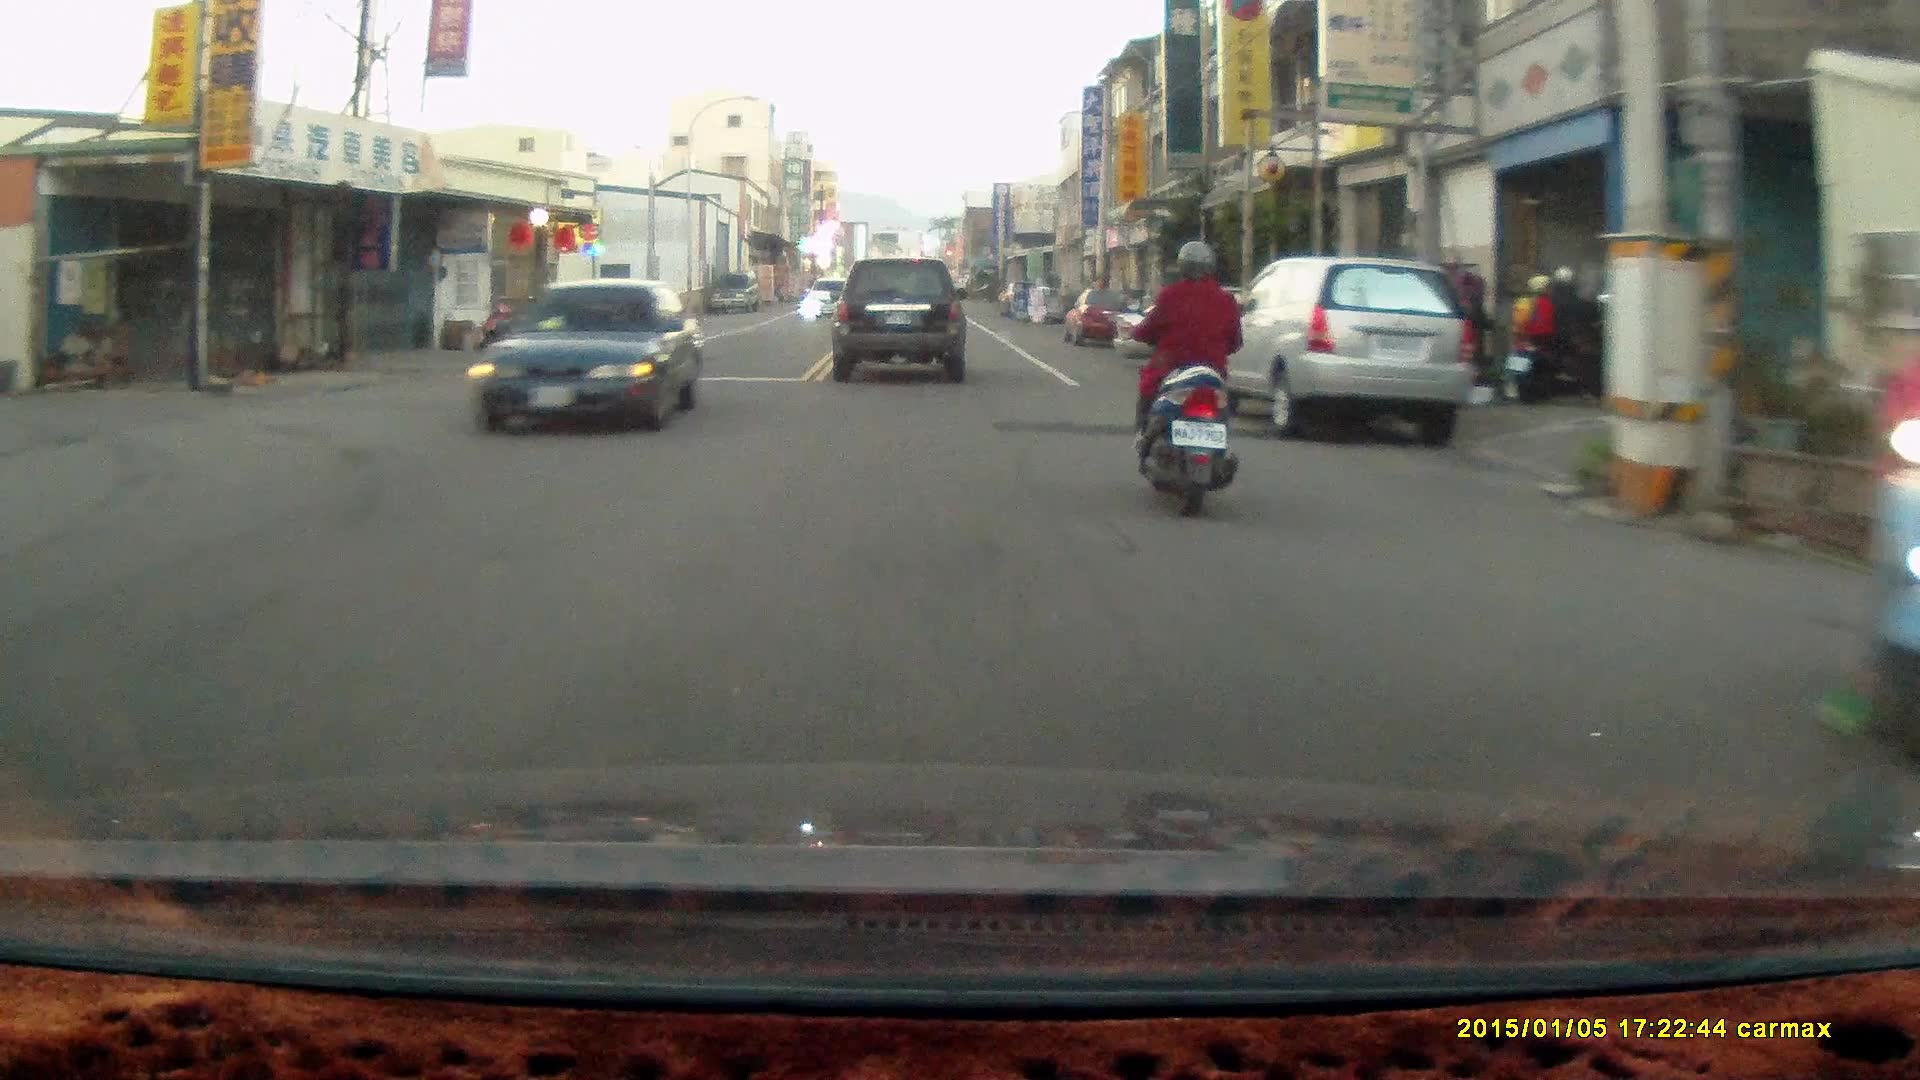rider: (1125, 237, 1240, 519), (1508, 258, 1598, 403)
vehicle: (1205, 261, 1471, 447), (470, 279, 704, 439), (830, 259, 969, 387), (1064, 288, 1142, 348)
